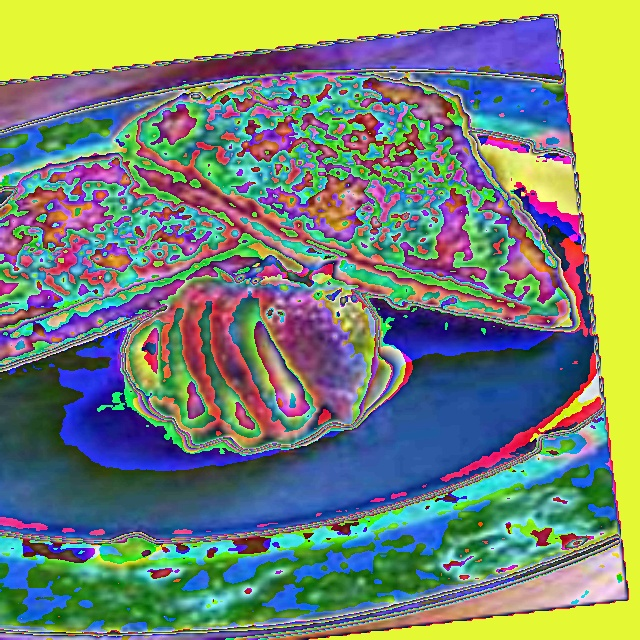background: (0, 68, 573, 454)
